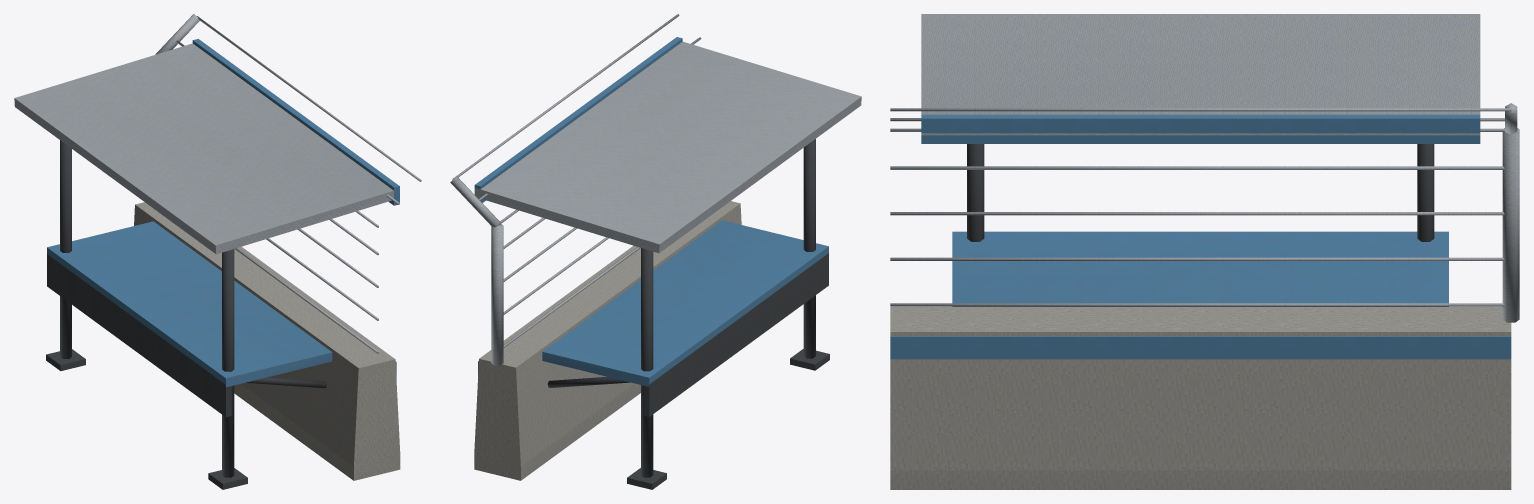
Rendered from pit-wall_far.glb.
3 views of the same model, side by side, from view 1: azimuth 30°, elevation 25°; view 2: azimuth 150°, elevation 25°; view 3: azimuth 270°, elevation 25° (orthographic). The views are drawn at different scales.
Parts seen in each view (by area): view 1: galvanised, paint-band, concrete, dark-steel; view 2: galvanised, paint-band, concrete, dark-steel; view 3: concrete, galvanised, paint-band, dark-steel.
Boxes of the visible parts, x1,y1,x2,y2 form: galvanised: (14, 14, 421, 353); paint-band: (47, 39, 399, 387); concrete: (134, 202, 400, 480); dark-steel: (46, 140, 326, 489); galvanised: (450, 14, 861, 365); paint-band: (474, 37, 828, 386); concrete: (474, 201, 741, 480); dark-steel: (547, 139, 829, 489); concrete: (890, 307, 1511, 489); galvanised: (890, 14, 1519, 322); paint-band: (890, 114, 1511, 359); dark-steel: (967, 144, 1434, 241).
Size of the model in its own units: 2.03 by 2.84 by 4.06.
4 materials, 4 textured.
